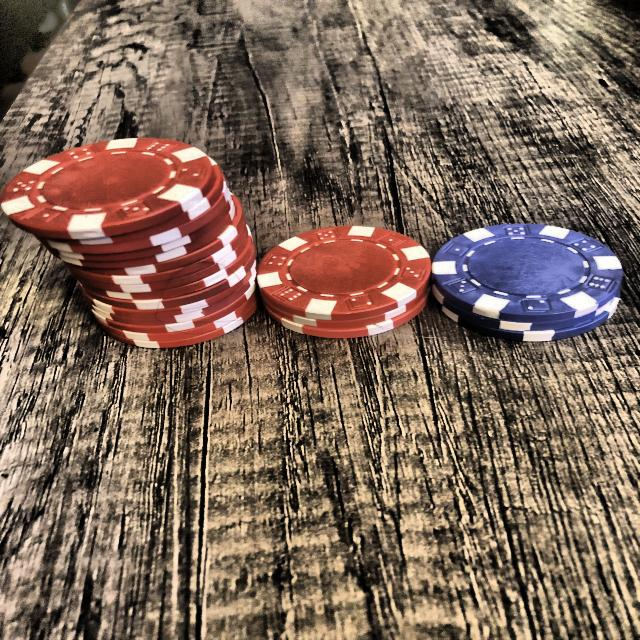Chip: (2, 138, 261, 349), (428, 222, 628, 344), (254, 224, 433, 340)
